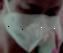with_mask: (2, 2, 63, 53)
